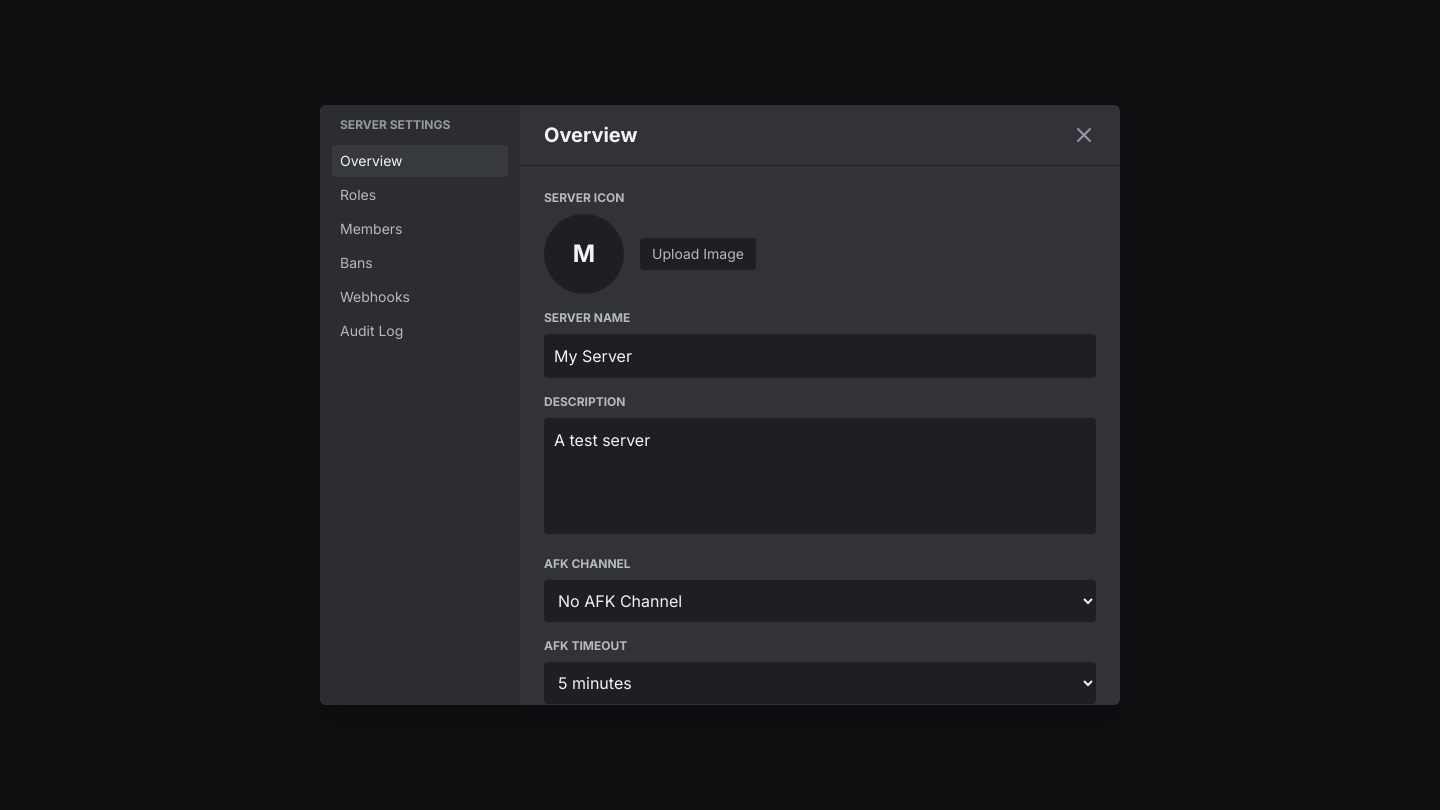
Test: ServerSettingsModal › Roles tab › shows "No custom roles yet" when empty
Click the button "Roles": (420, 195) [332, 179, 508, 211]
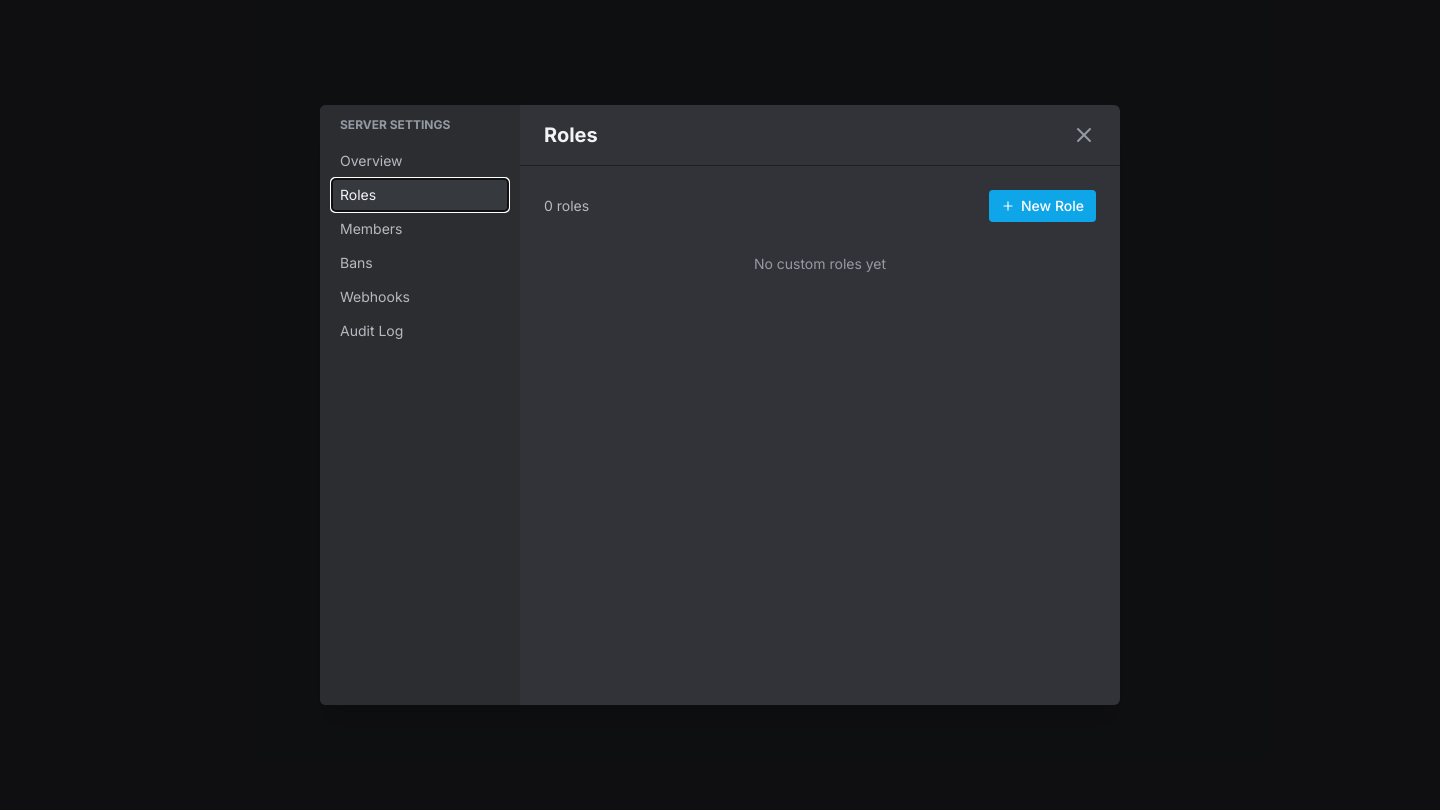
Expected: the text "No custom roles yet" is shown, [754, 255, 886, 272]
